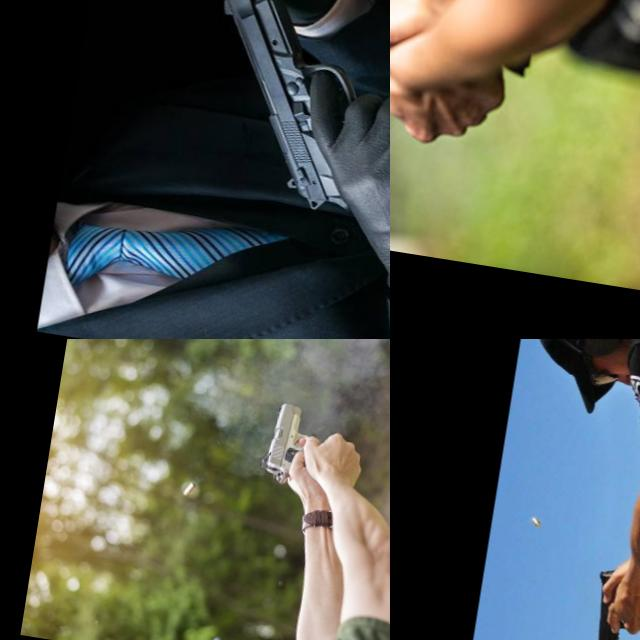handgun: (190, 0, 390, 236), (390, 0, 550, 197), (254, 396, 326, 490), (584, 556, 640, 640)
